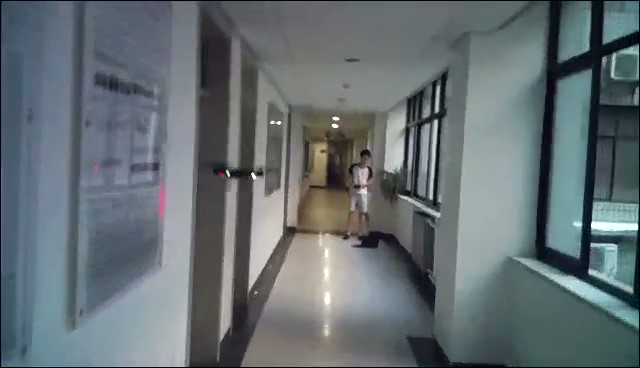drone: (198, 162, 285, 195)
person: (342, 149, 374, 240)
